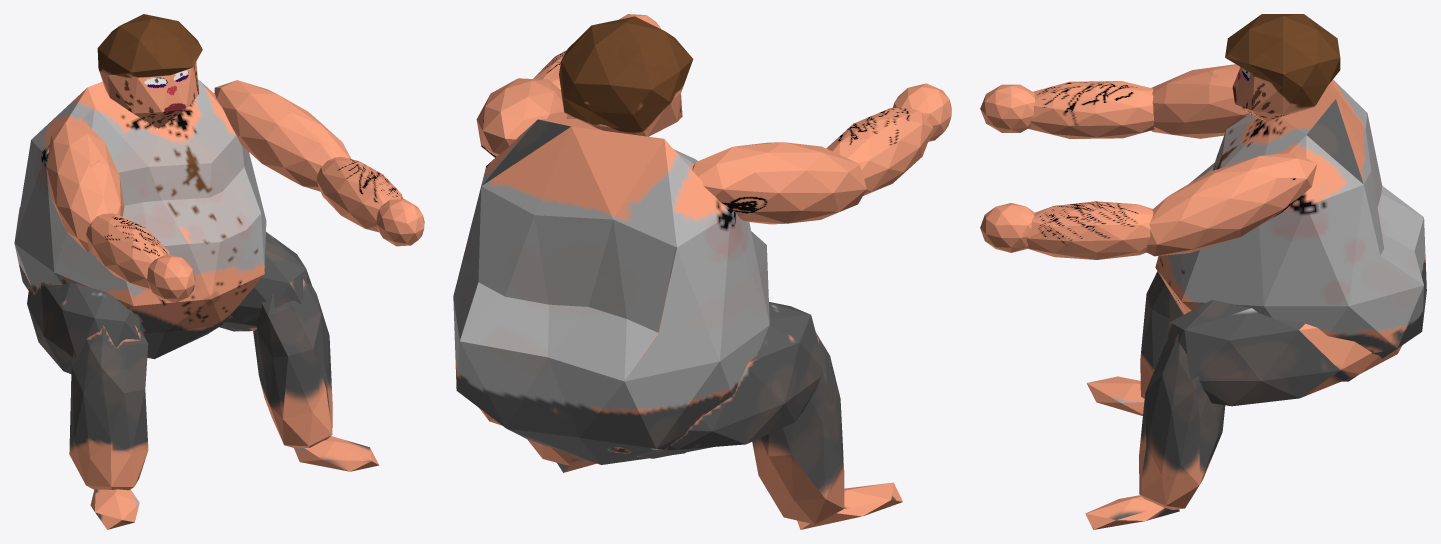
File: dude.glb
3 renders of one model, left to right at view 1: azimuth 30°, elevation 25°; view 2: azimuth 150°, elevation 25°; view 3: azimuth 270°, elevation 25°, orthographic. The views are drawn at different scales.
Visible parts, largest first — view 1: Body, LeftArm, RightArm, Head; view 2: Body, RightArm, Head, LeftArm; view 3: Body, LeftArm, RightArm, Head.
Part boxes in pixels (box(x1,y1,x2,y2)): Body: box(14, 79, 379, 529); LeftArm: box(214, 80, 424, 246); RightArm: box(46, 121, 195, 302); Head: box(97, 14, 202, 128); Body: box(453, 119, 902, 529); RightArm: box(692, 83, 951, 224); Head: box(559, 16, 693, 136); LeftArm: box(476, 14, 660, 157); Body: box(1085, 79, 1426, 529); LeftArm: box(980, 152, 1317, 259); RightArm: box(980, 64, 1249, 138); Head: box(1225, 14, 1340, 121).
Bounding box in the file's own units: 2.53 × 3.6 × 3.26.
Materials: 4 (4 with a texture image).
